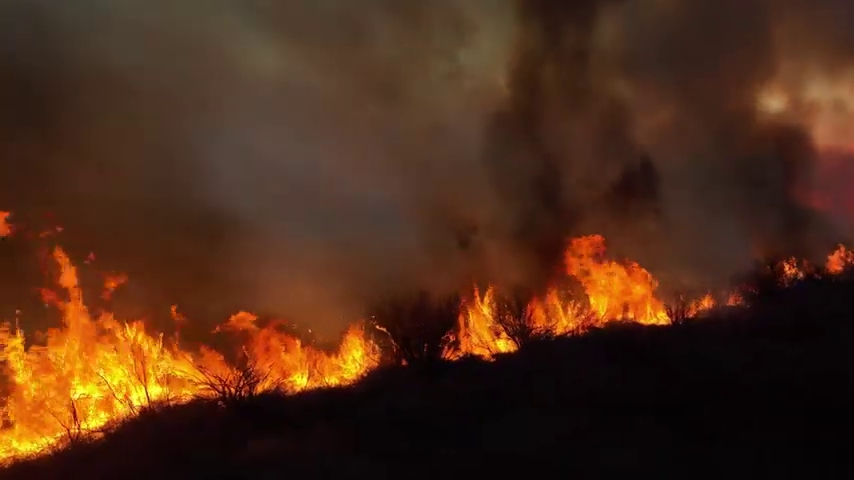forest_fire: (0, 246, 254, 461), (530, 236, 667, 332), (222, 312, 381, 392), (439, 288, 514, 358), (825, 244, 853, 273)
